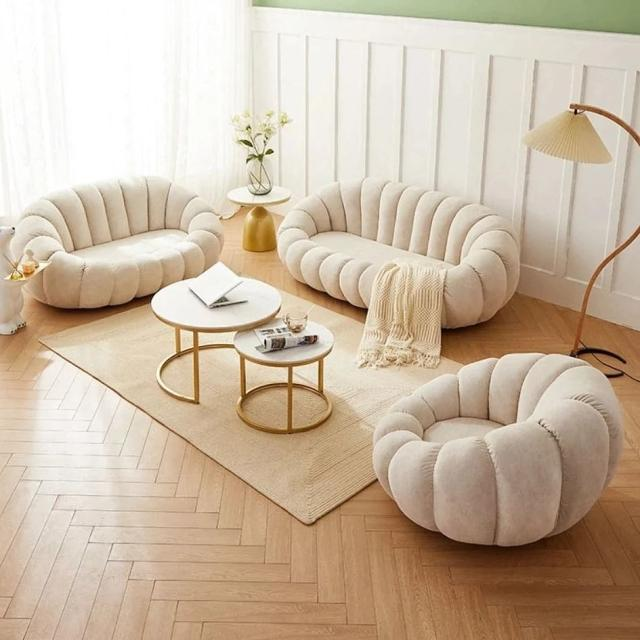sofa: (368, 342, 626, 550), (276, 175, 520, 330), (7, 174, 225, 310)
